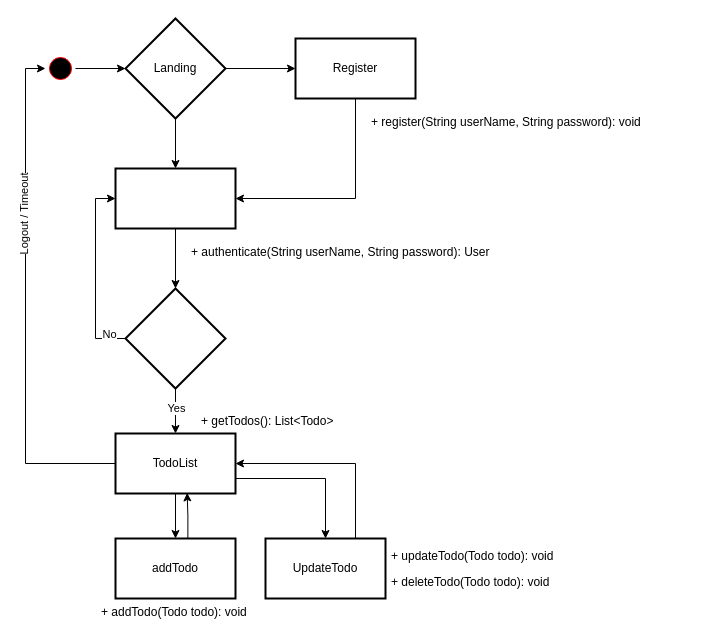
The diagram is 702 pixels wide and 644 high, and some of its shapes have lost their labels. The centre of each missing label's shape, as x and y in pixels:
Login: the point at 175,198
Successful: the point at 175,338
